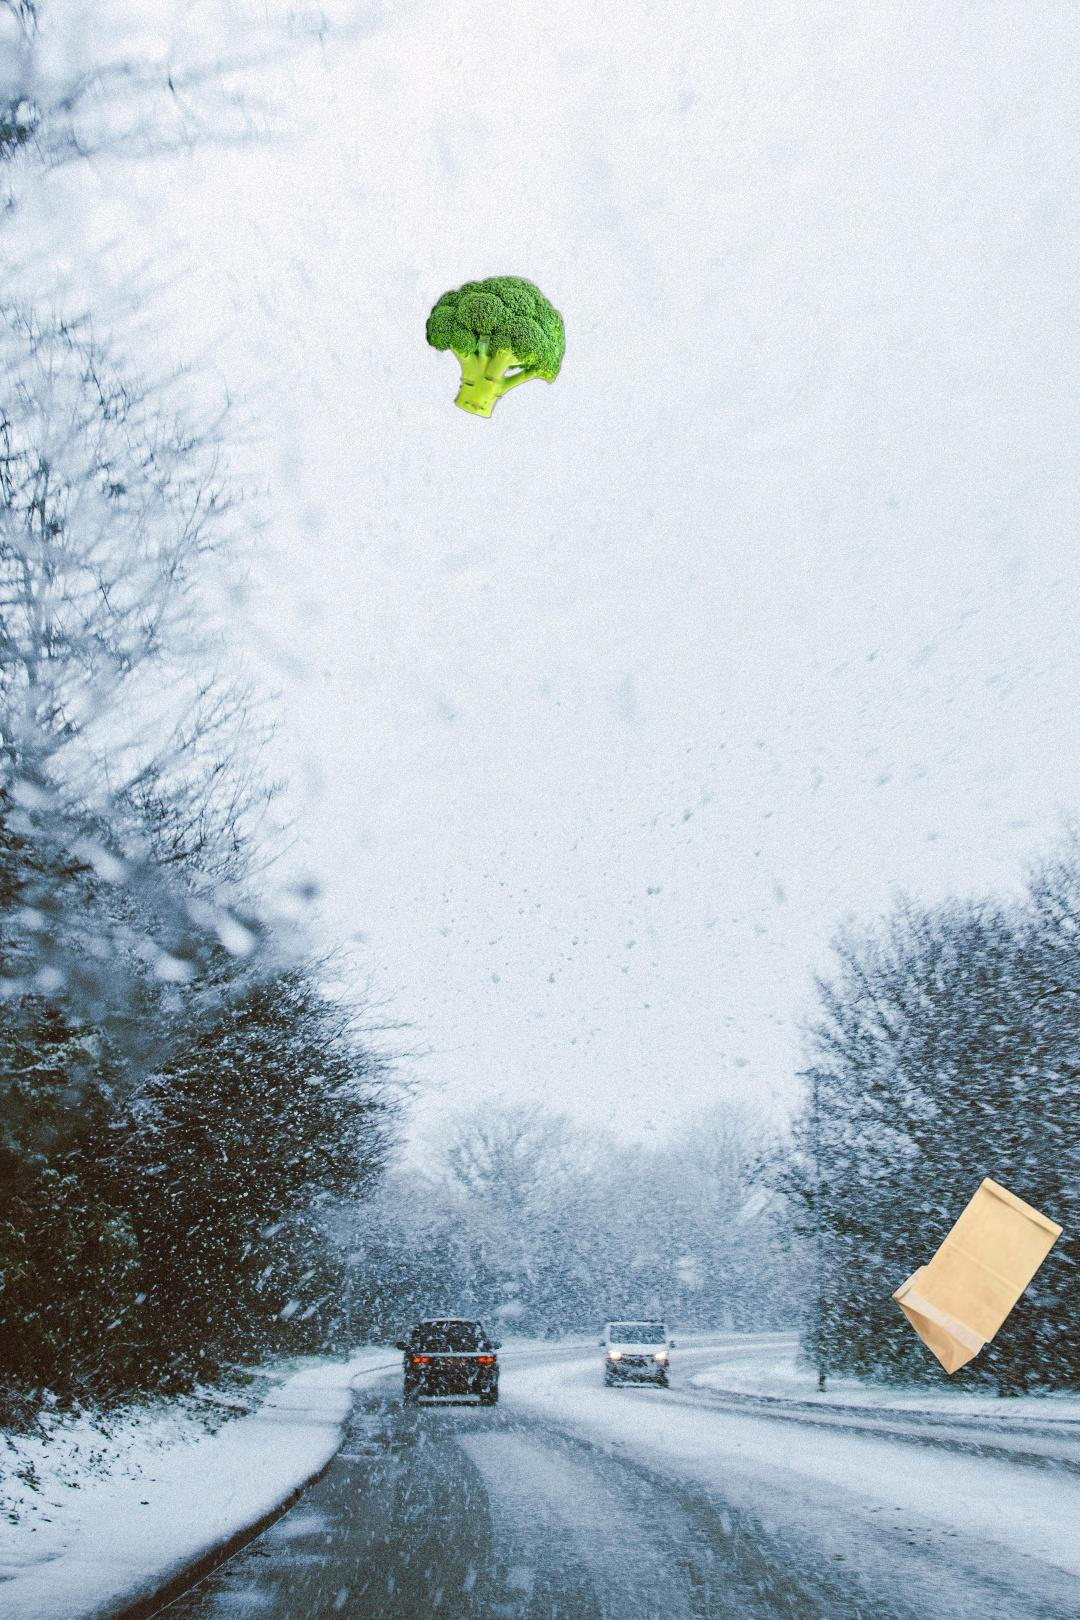biological: (395, 269, 588, 419)
paper-bag: (888, 1174, 1067, 1378)
